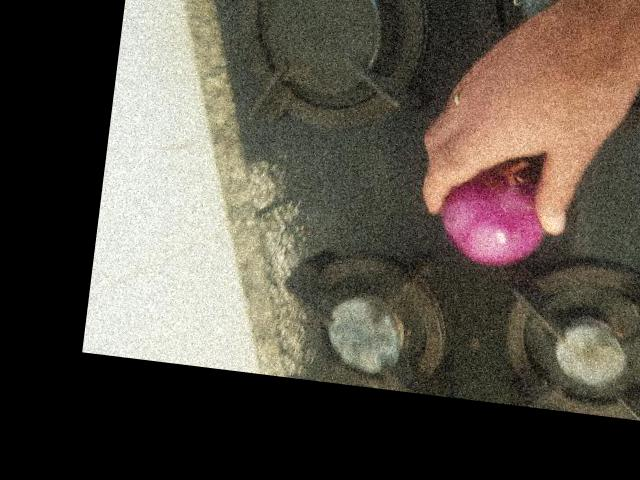onion: (438, 154, 561, 273)
